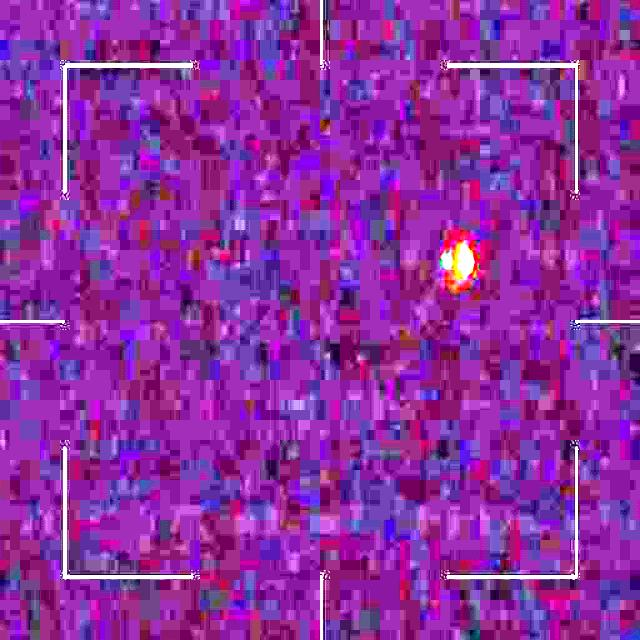bird: (441, 241, 475, 292)
